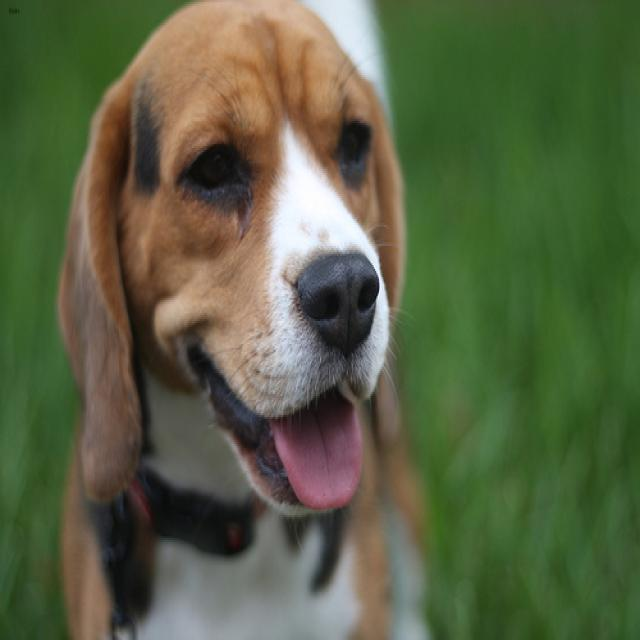dog-beagle: (51, 2, 438, 636)
